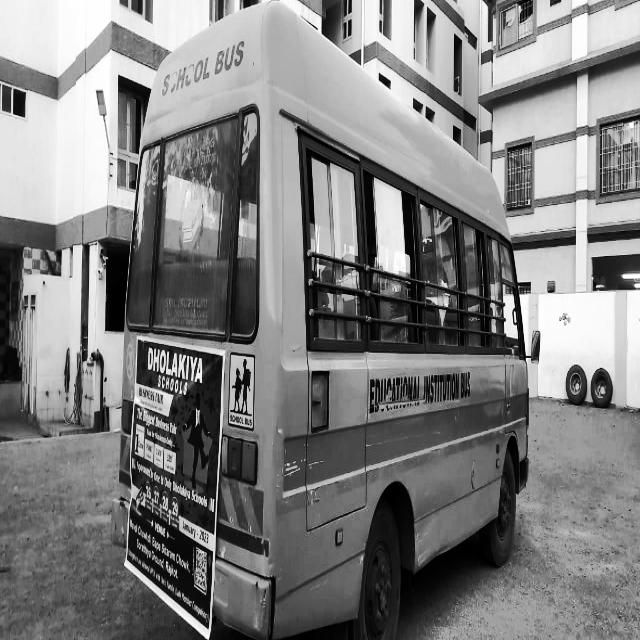Bus: (109, 0, 535, 635)
